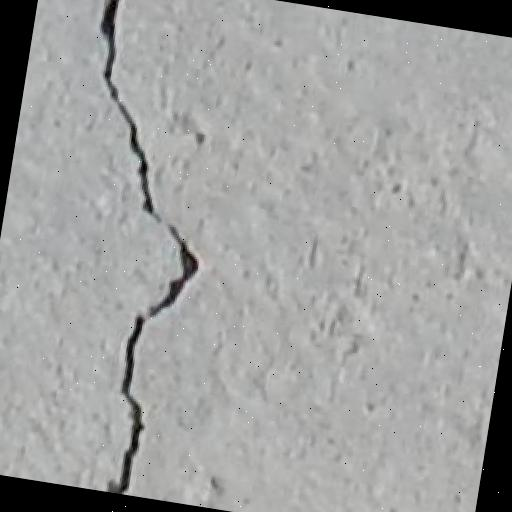spalling: (82, 0, 213, 488)
